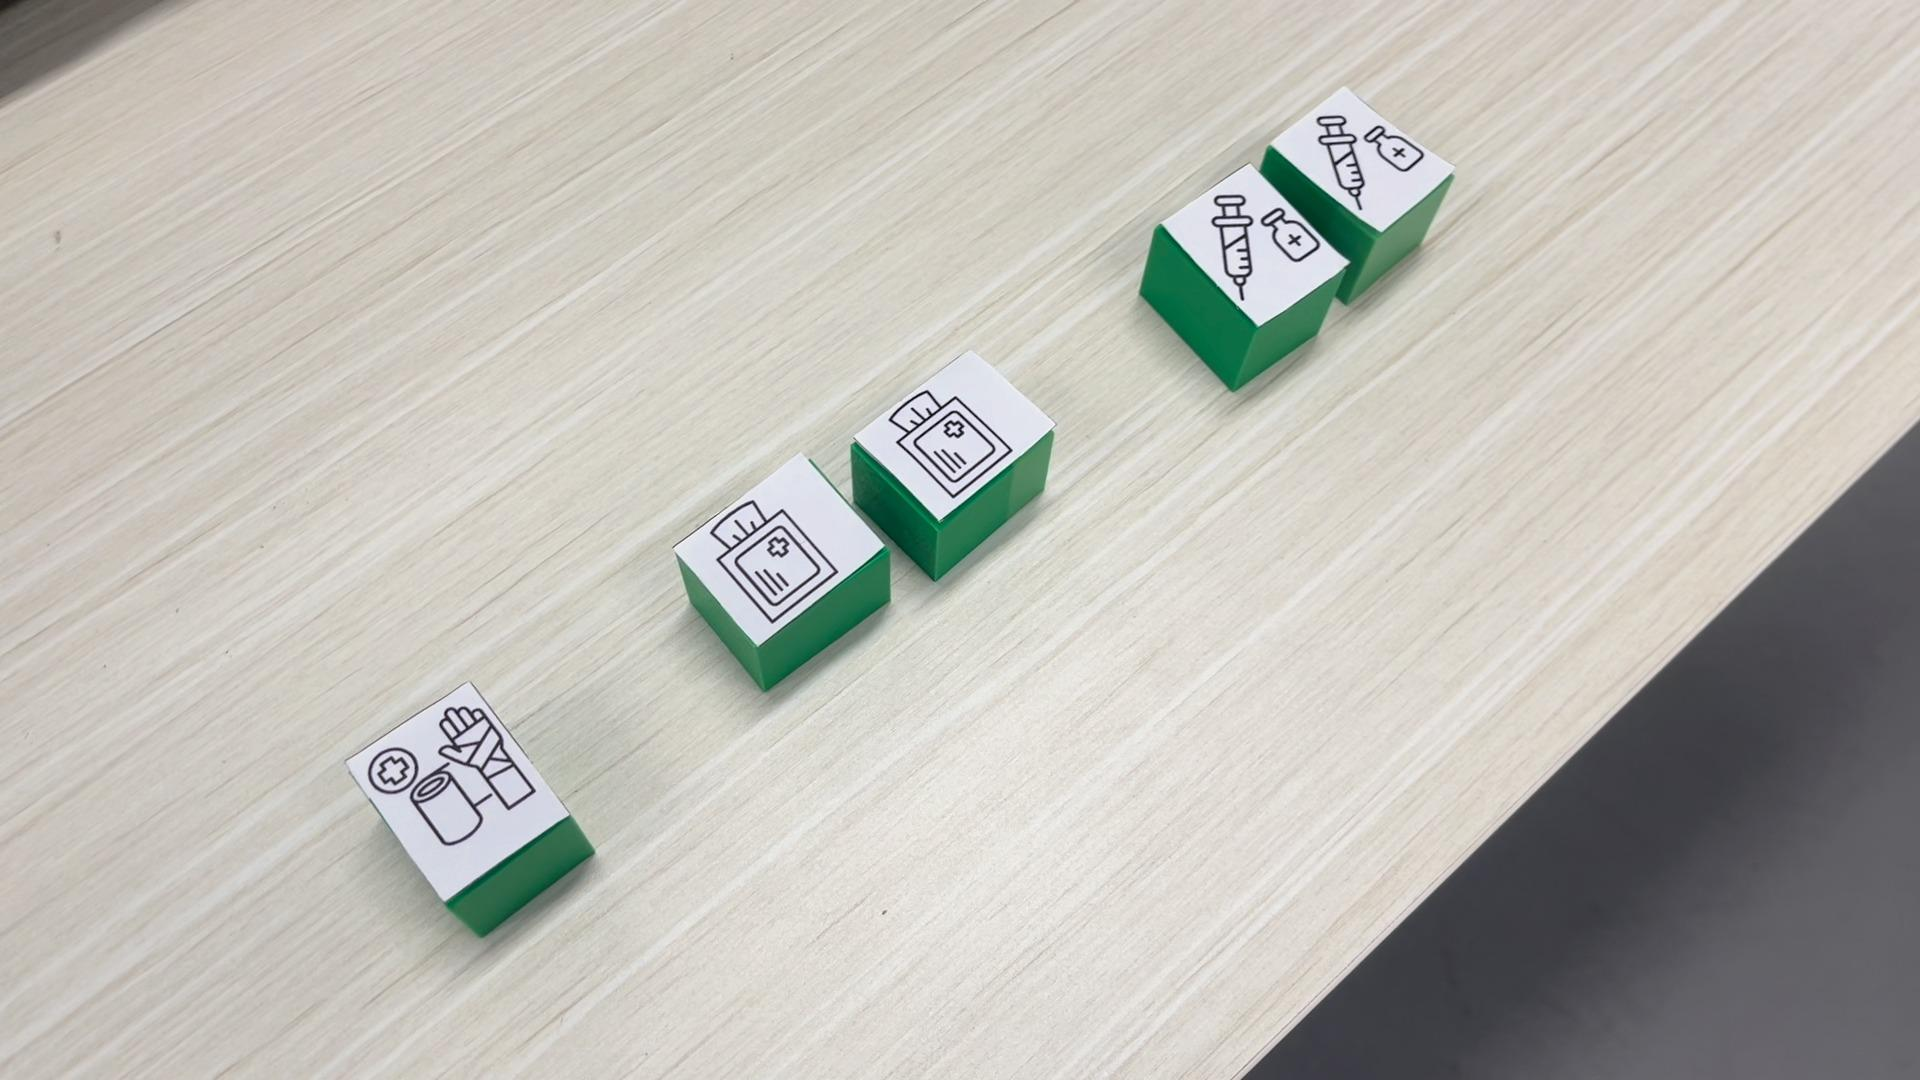Bandages: (338, 682, 595, 938)
Gauze: (675, 448, 891, 694), (848, 345, 1056, 583)
antiseptic cream: (1138, 160, 1349, 389), (1258, 88, 1455, 305)
